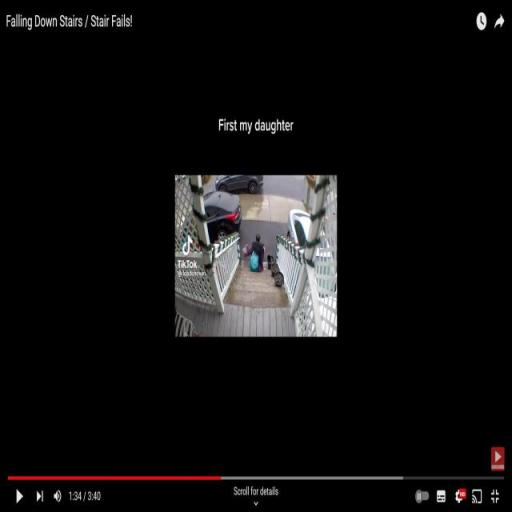Fall: (245, 231, 266, 276)
